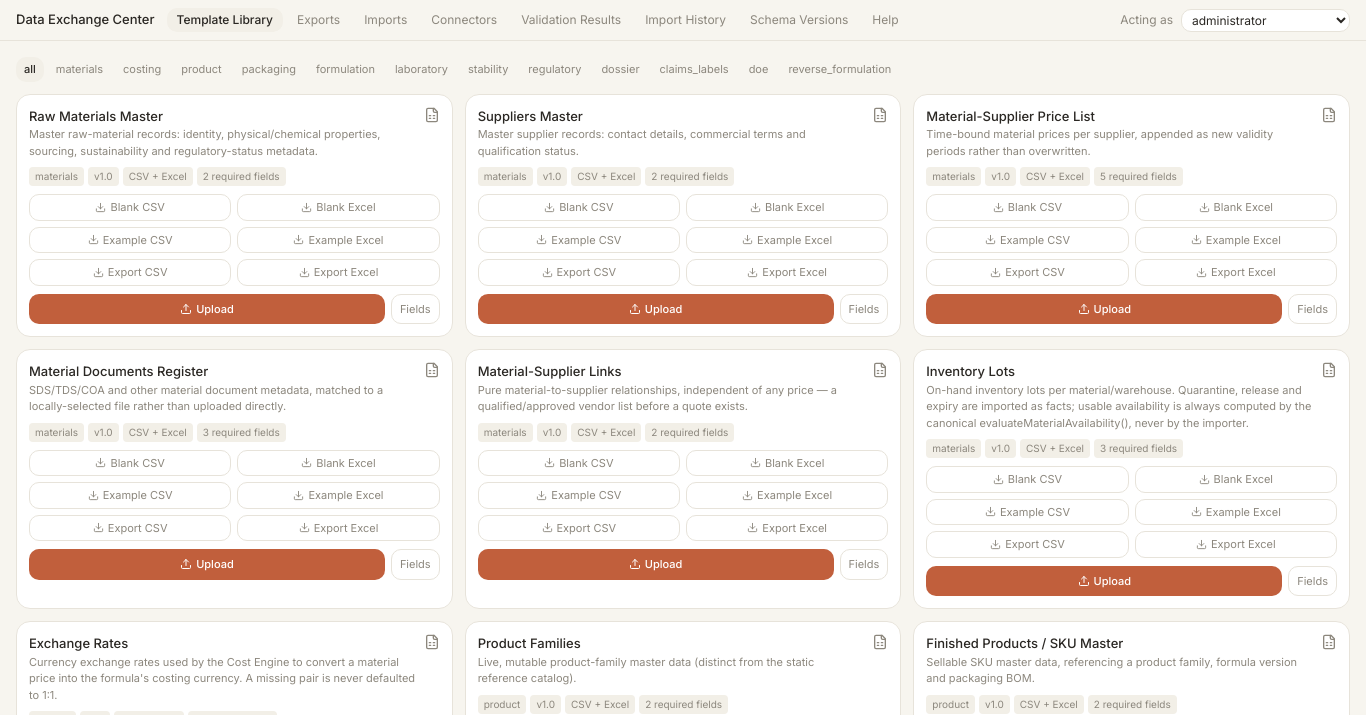
Scenario: DataExchangePage — sections › switches to Import History and shows an honest empty state
This screenshot has width=1366, height=715.
Expected: the text "Raw Materials Master" is shown, left=29, top=108, right=163, bottom=124
Click the button "Import History": (686, 20) left=635, top=8, right=736, bottom=32
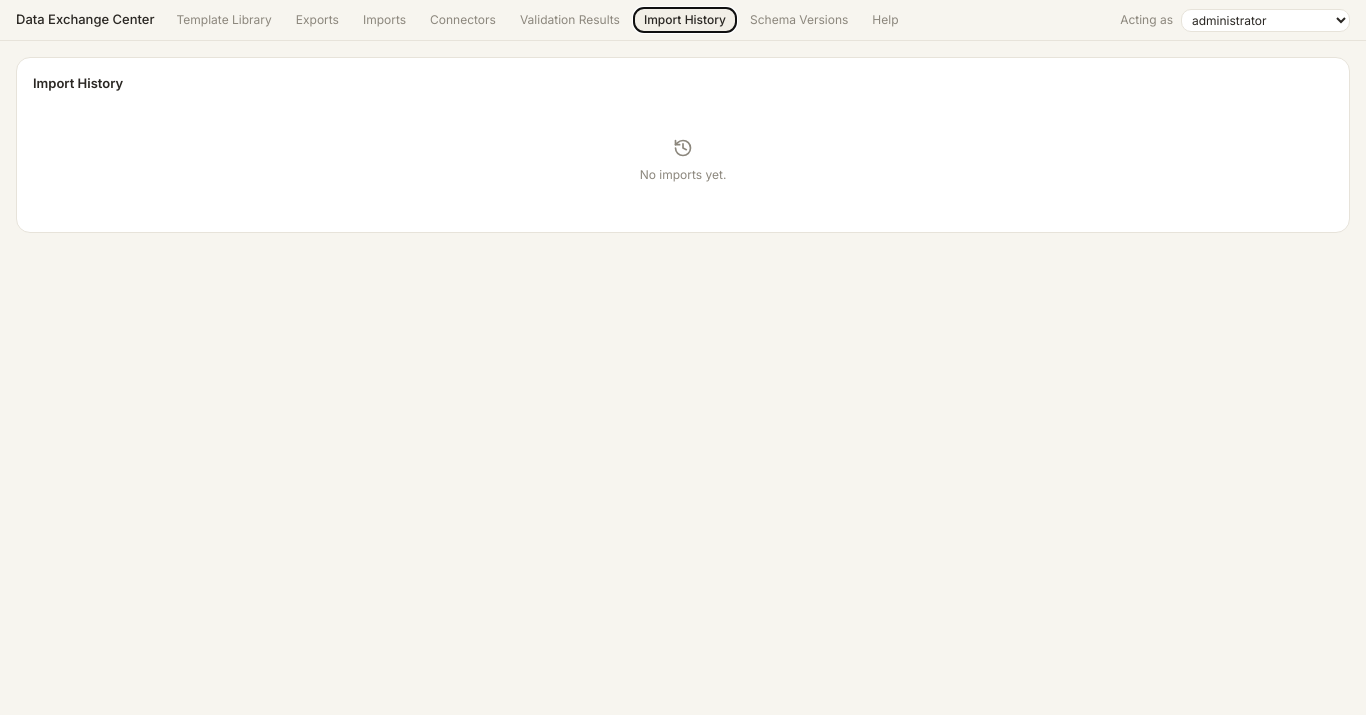
Now the text "No imports yet." is shown, box left=640, top=138, right=726, bottom=182
